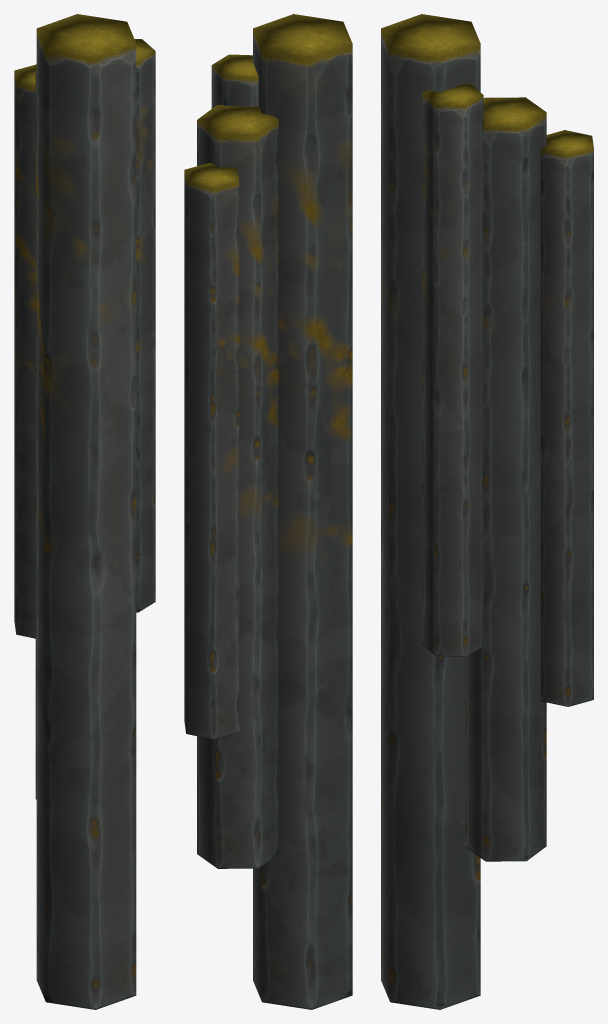
Rendered from SM_Pillar_Merged_08.glb.
The picture shows the model from 3 angles, left to right: view 1: azimuth 30°, elevation 25°; view 2: azimuth 150°, elevation 25°; view 3: azimuth 270°, elevation 25°; orthographic projection.
Visible parts, largest first — view 1: SM_Pillar_Merged_08; view 2: SM_Pillar_Merged_08; view 3: SM_Pillar_Merged_08.
Part boxes in pixels (<box>): SM_Pillar_Merged_08: <box>14,14,155,1009</box>; SM_Pillar_Merged_08: <box>184,14,352,1009</box>; SM_Pillar_Merged_08: <box>381,14,593,1009</box>.
Size of the model in its own units: 2.18 by 16.73 by 3.39.
Materials: 1 (1 with a texture image).
